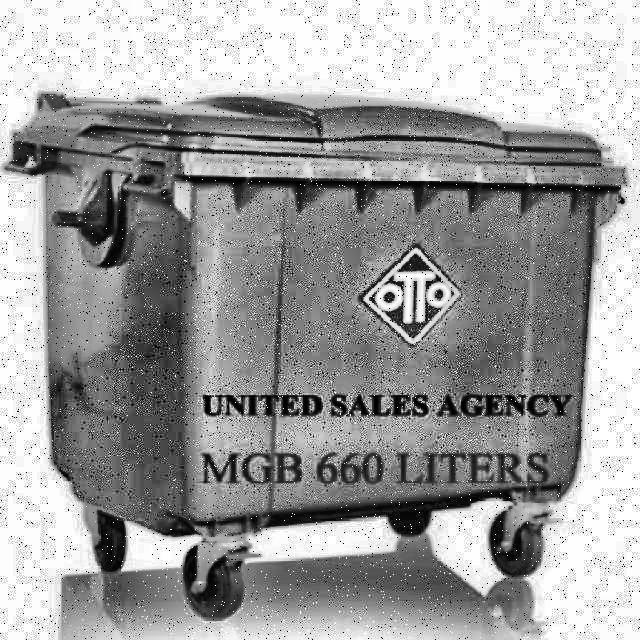Dustbin: (1, 83, 634, 628)
